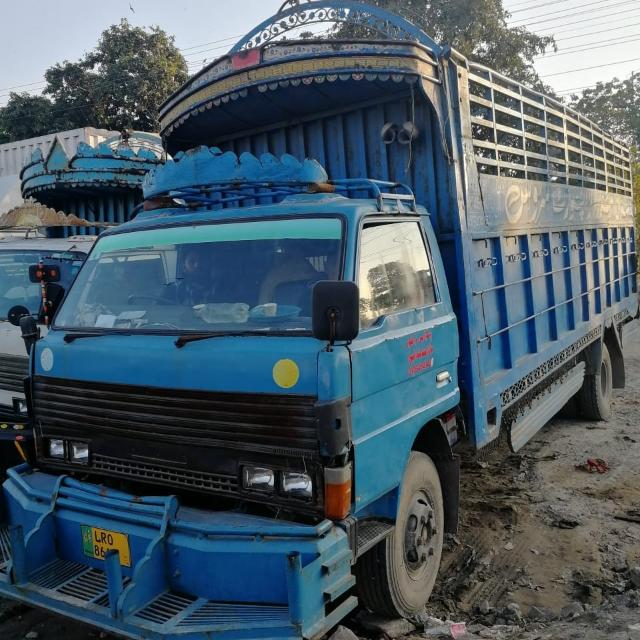plate: (66, 517, 130, 567)
